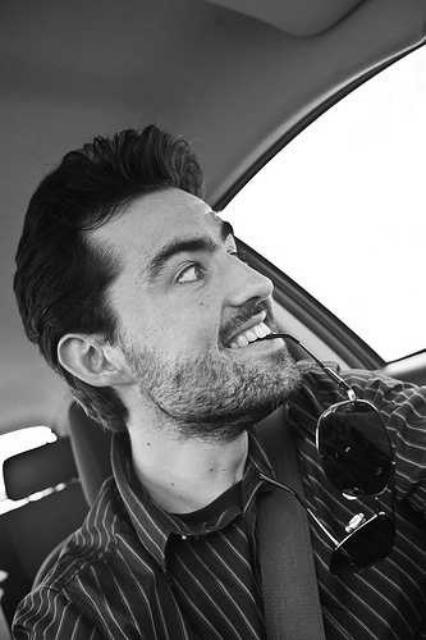SafeDriving: (164, 244, 214, 294)
Seatbelt: (245, 400, 335, 640)
